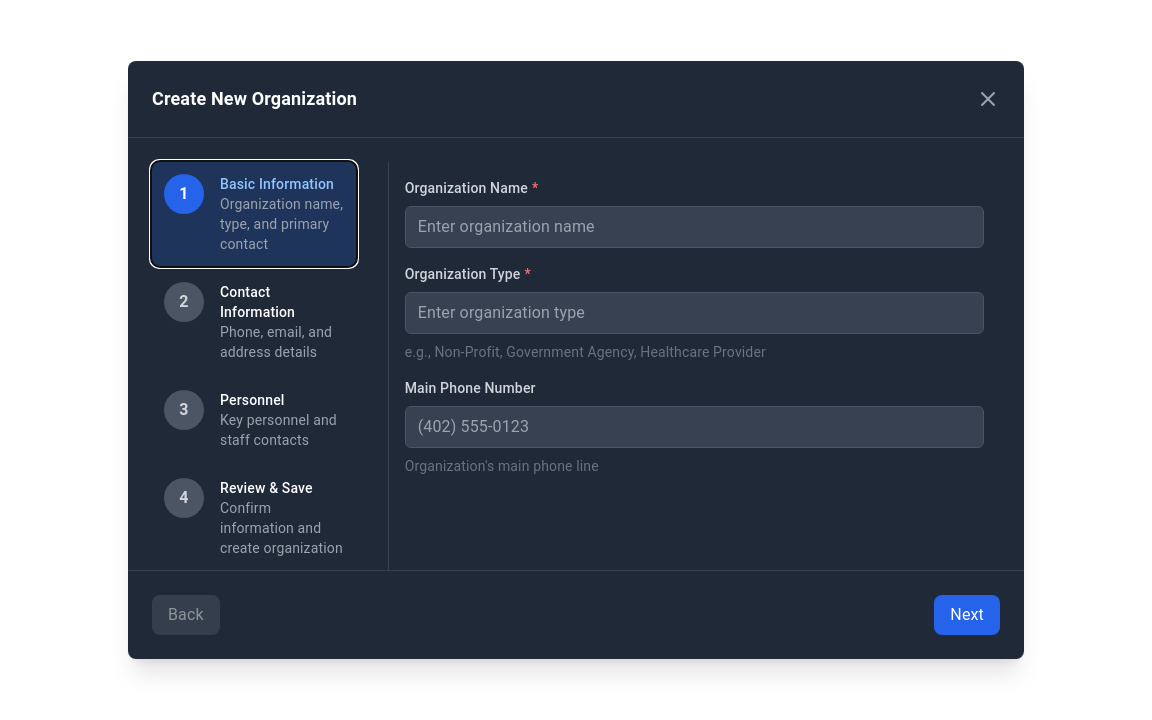
it: OrganizationModal (business) › validation: cannot advance with empty required fields
The image size is (1152, 720).
Click the button "Next": (967, 615) [934, 595, 1000, 635]
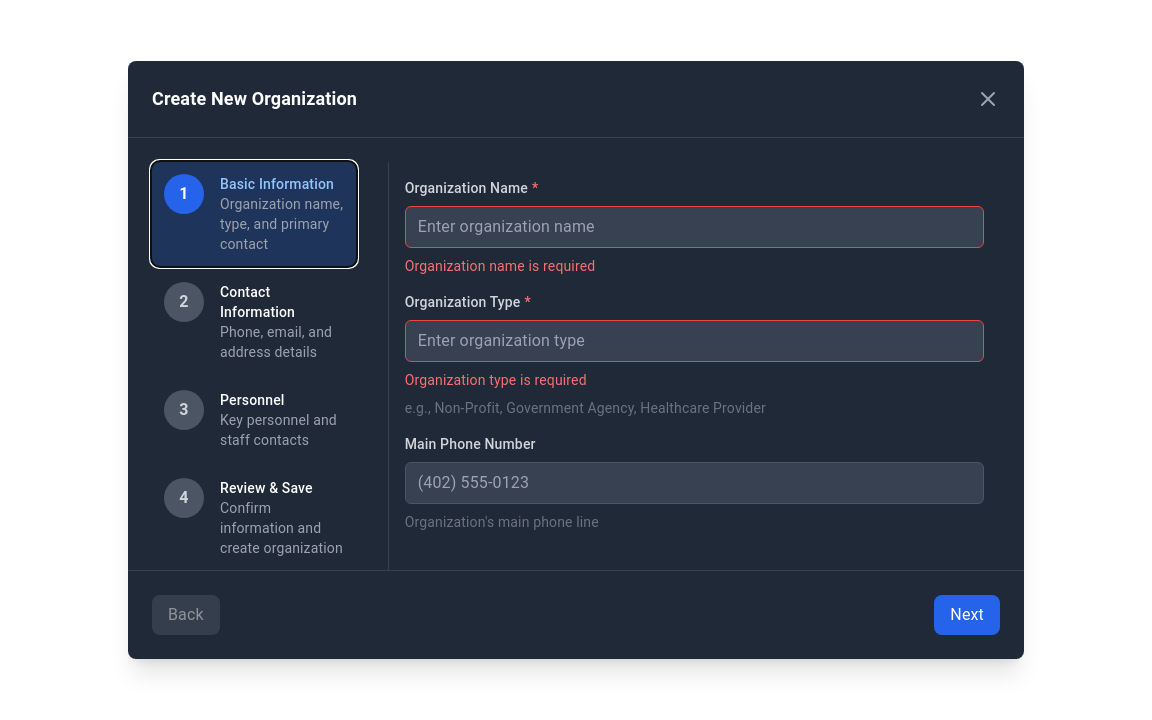
expect the heading "Basic Information" is shown: met, box [220, 174, 344, 194]
expect the text "Organization name is required" is shown: met, box [405, 258, 595, 274]
expect the text "Organization type is required" is shown: met, box [405, 372, 587, 388]
